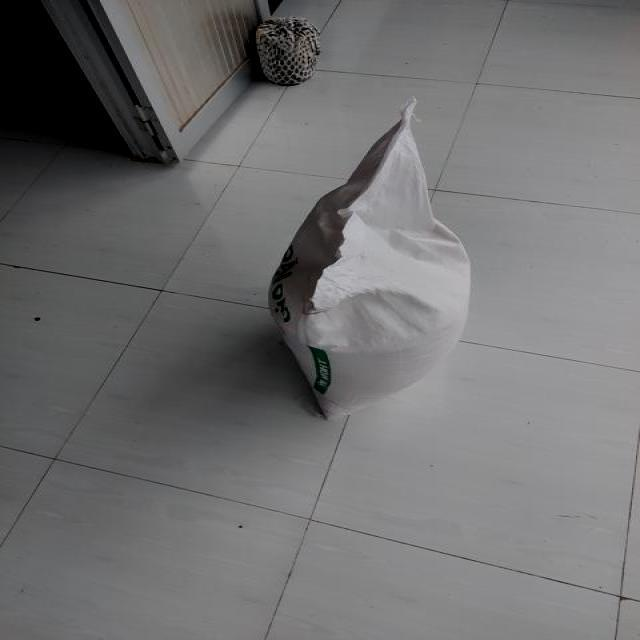gunny_bag: (271, 98, 469, 416)
